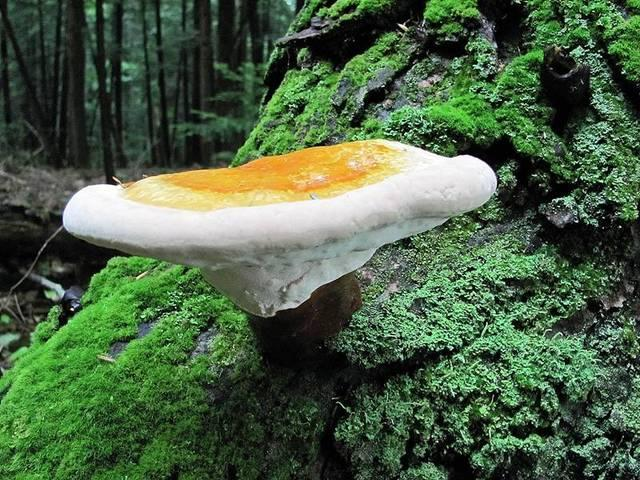Non-edible Mushroom: (60, 136, 498, 319)
